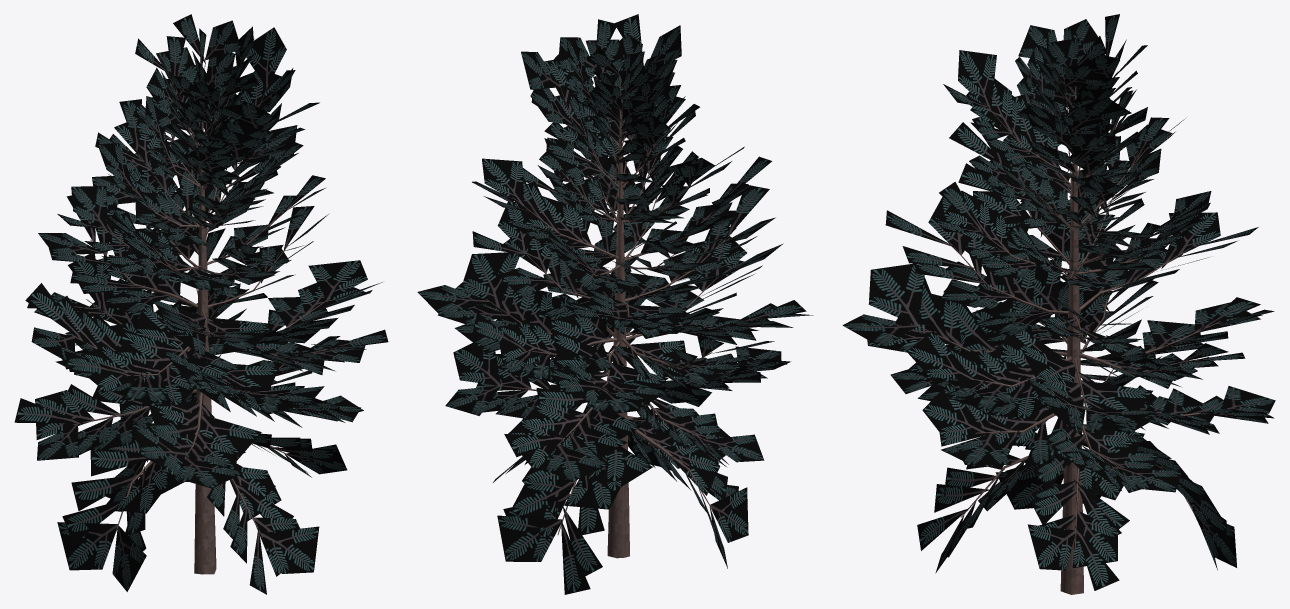
File: Pine_01.fbx
The picture shows the model from 3 angles, left to right: view 1: azimuth 30°, elevation 25°; view 2: azimuth 150°, elevation 25°; view 3: azimuth 270°, elevation 25°; orthographic projection. The views are drawn at different scales.
Parts seen in each view (by area): view 1: LOD0; view 2: LOD0; view 3: LOD0.
Part boxes in pixels (x1,y1,x2,y2): LOD0: (14,14,388,594); LOD0: (417,14,813,594); LOD0: (842,14,1275,594).
Size of the model in its own units: 53.7 by 78.26 by 54.84.
